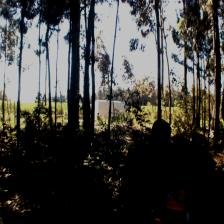trunktrack_idkeyframe: (67, 35, 80, 155), (83, 43, 91, 133), (155, 53, 161, 158), (16, 53, 22, 151), (107, 76, 113, 144), (48, 75, 54, 141)
